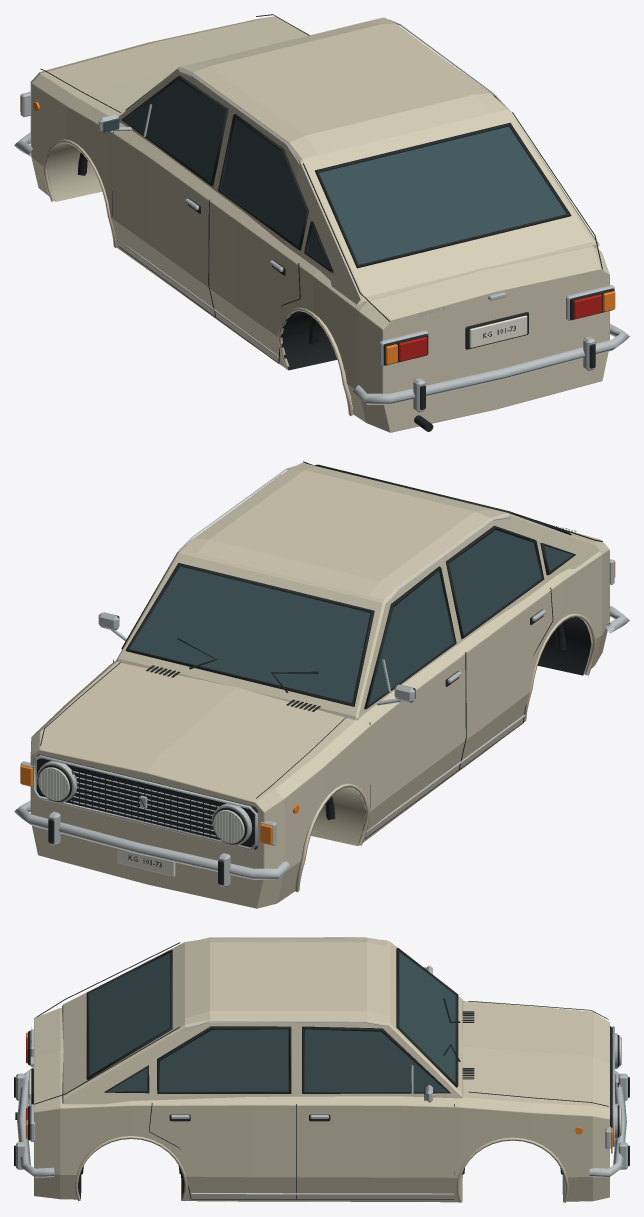
The model's file is zastava_101.glb.
3 views of the same model, one above another, from view 1: azimuth 30°, elevation 25°; view 2: azimuth 150°, elevation 25°; view 3: azimuth 270°, elevation 25° (orthographic). The views are drawn at different scales.
Visible parts, largest first — view 1: Zastava101_Body; view 2: Zastava101_Body; view 3: Zastava101_Body.
Boxes of the visible parts, x1,y1,x2,y2 form: Zastava101_Body: [14, 14, 629, 432]; Zastava101_Body: [14, 461, 629, 908]; Zastava101_Body: [14, 937, 629, 1202].
Bounding box in the file's own units: 1.93 × 1.27 × 3.96.
